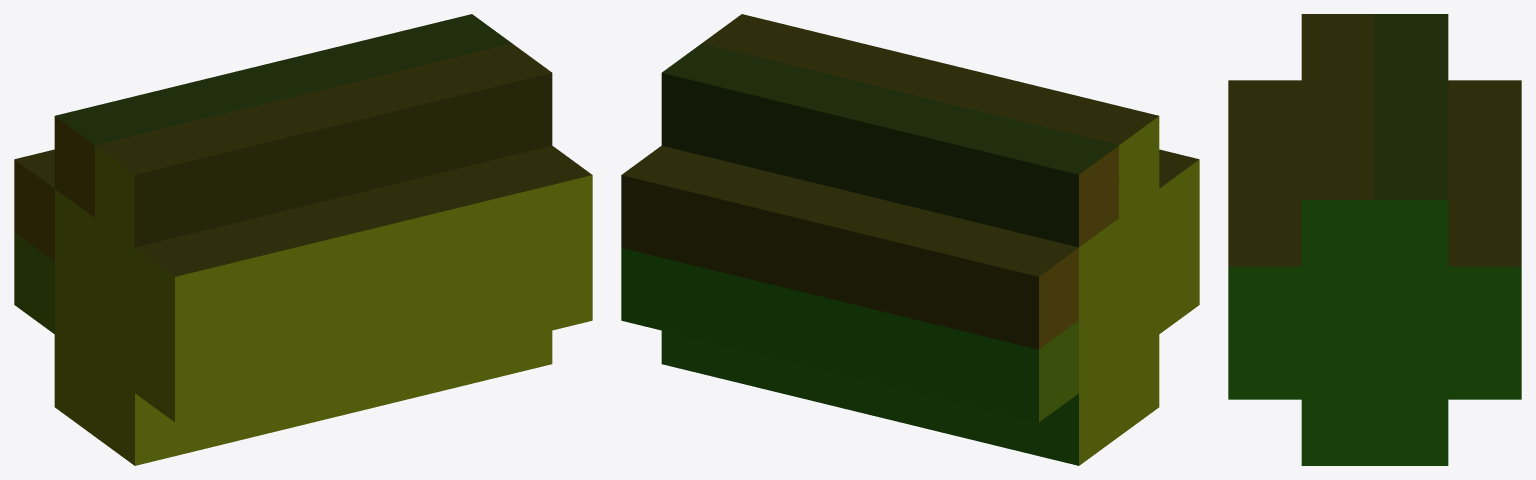
Rendered from block_39.fbx.
3 renders of one model, left to right at view 1: azimuth 30°, elevation 25°; view 2: azimuth 150°, elevation 25°; view 3: azimuth 270°, elevation 25°, orthographic. The views are drawn at different scales.
Parts seen in each view (by area): view 1: Box.014; view 2: Box.014; view 3: Box.014.
Part boxes in pixels (x1,y1,x2,y2): Box.014: [14, 14, 592, 465]; Box.014: [621, 14, 1199, 465]; Box.014: [1228, 14, 1521, 465].
Size of the model in its own units: 600 by 400 by 400.
